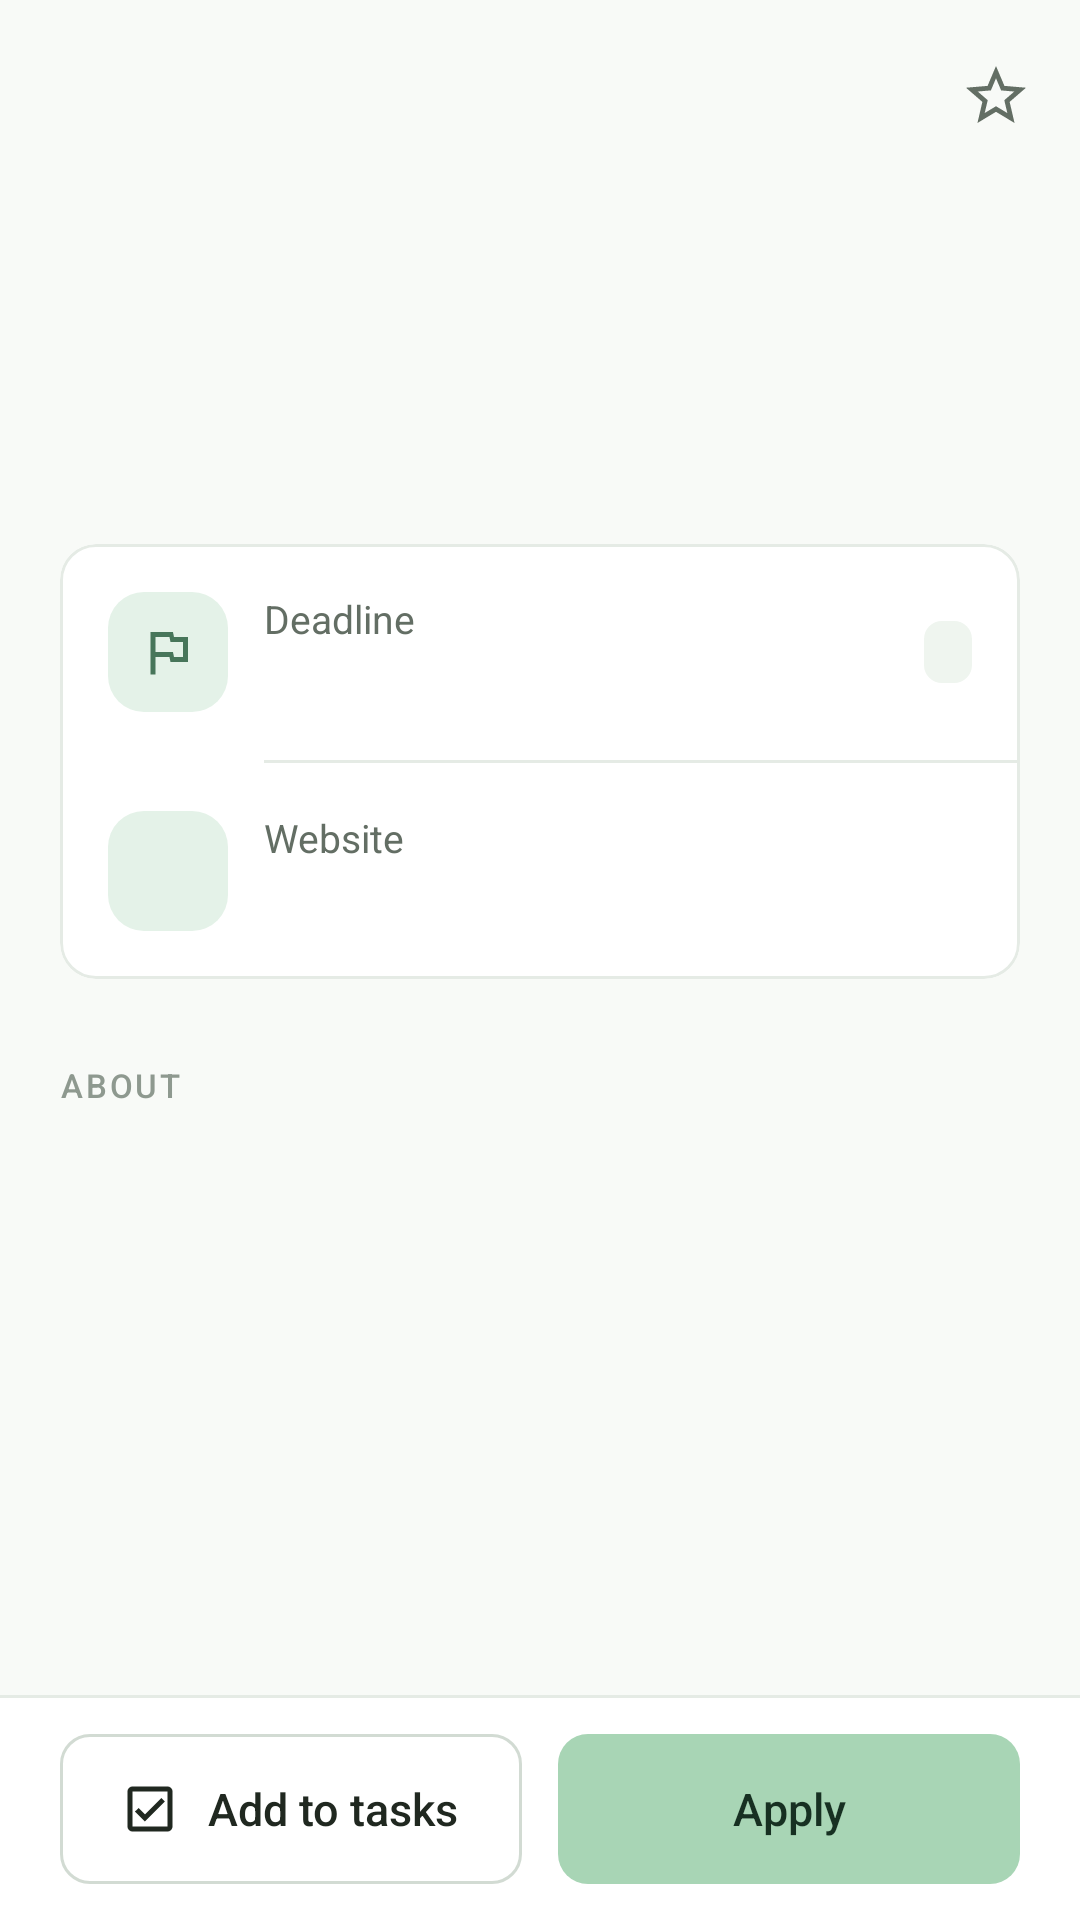

Screen size 1080x1920. Icon name, then its center in pixels as (x=x, y=y):
flag: (x=168, y=652)
Save to favorites: (x=996, y=94)
